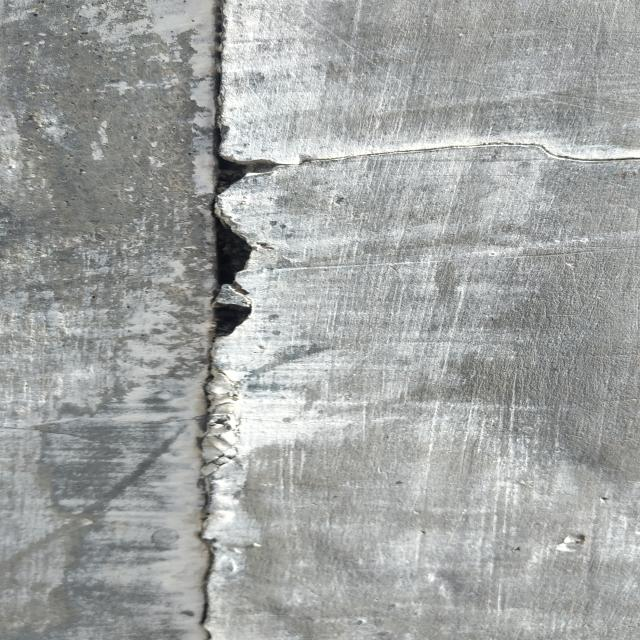Crack: (194, 2, 300, 640)
